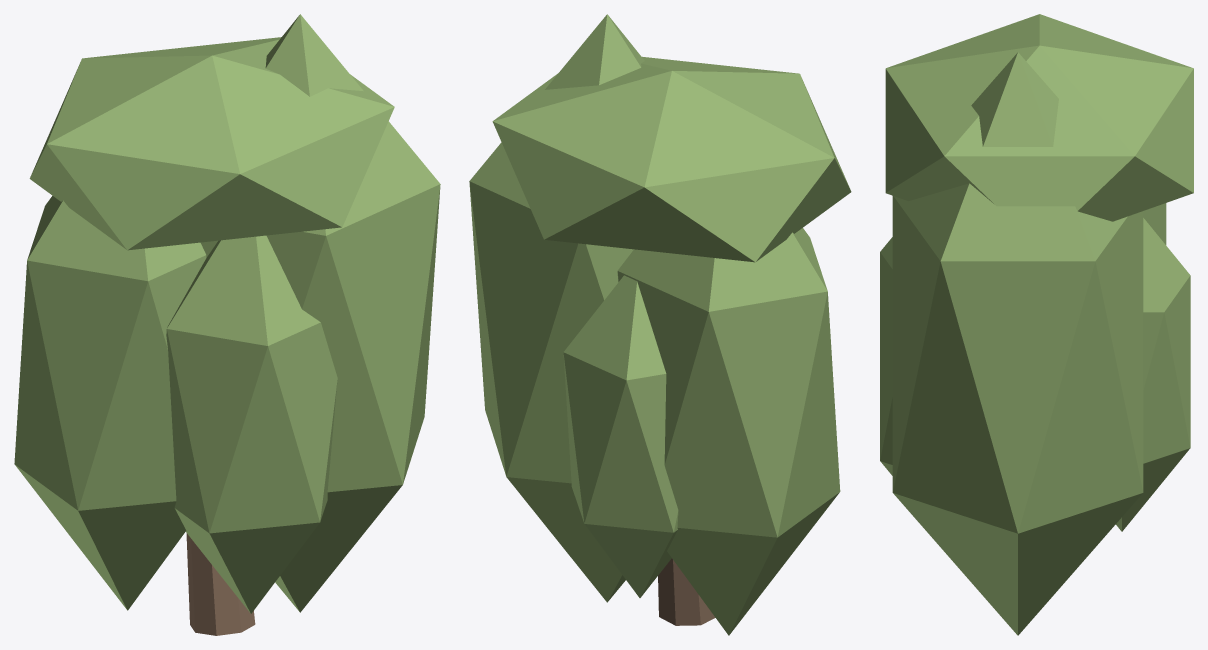
File: willow.glb
3 renders of one model, left to right at view 1: azimuth 30°, elevation 25°; view 2: azimuth 150°, elevation 25°; view 3: azimuth 270°, elevation 25°, orthographic. The views are drawn at different scales.
Visible parts, largest first — view 1: Crown, Drape_R, Drape_C, Drape_L, Trunk; view 2: Drape_R, Crown, Drape_L, Drape_F, Trunk; view 3: Drape_L, Crown, Drape_F, Drape_C, Drape_R.
Boxes of the visible parts, left/top/right/bottom form: Crown: left=29, top=37, right=394, bottom=250; Drape_R: left=14, top=196, right=206, bottom=610; Drape_C: left=166, top=235, right=337, bottom=613; Drape_L: left=201, top=14, right=440, bottom=612; Trunk: left=186, top=533, right=255, bottom=635; Drape_R: left=617, top=228, right=840, bottom=635; Crown: left=492, top=56, right=851, bottom=262; Drape_L: left=469, top=14, right=644, bottom=602; Drape_F: left=563, top=275, right=678, bottom=597; Trunk: left=658, top=558, right=715, bottom=625; Drape_L: left=892, top=52, right=1143, bottom=635; Crown: left=885, top=14, right=1193, bottom=221; Drape_F: left=1116, top=218, right=1190, bottom=531; Drape_C: left=880, top=237, right=892, bottom=475; Drape_R: left=1143, top=203, right=1166, bottom=244.
Size of the model in its own units: 1.94 by 2.98 by 1.45.
